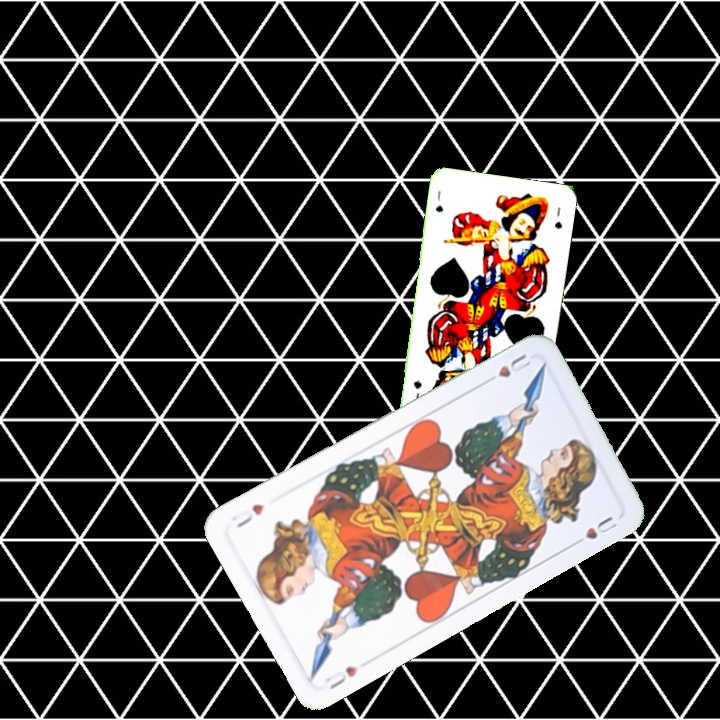GU: (431, 187, 446, 215)
HU: (479, 350, 534, 387), (321, 662, 361, 693)
